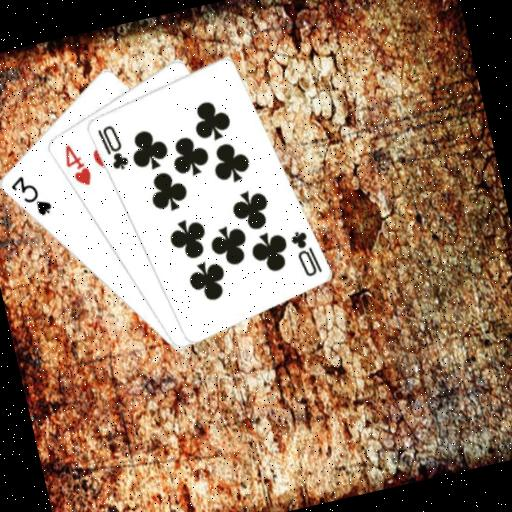10C: (93, 119, 132, 175), (286, 224, 324, 281)
3S: (5, 168, 55, 223)
4H: (57, 137, 94, 191)
